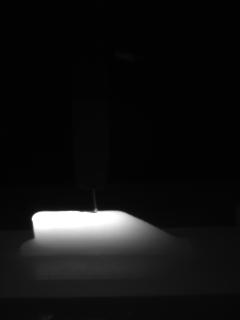tip_wire_left: (77, 185, 97, 212)
tip_wire_right: (94, 184, 108, 212)
